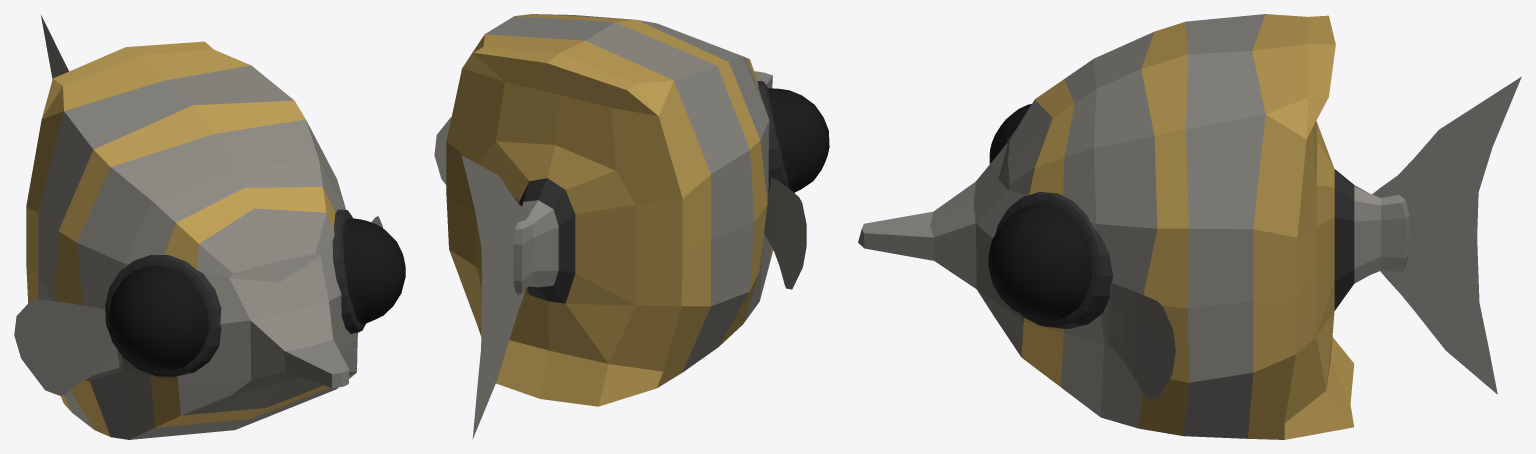
Rendered from q_butterfly.fbx.
The picture shows the model from 3 angles, left to right: view 1: azimuth 30°, elevation 25°; view 2: azimuth 150°, elevation 25°; view 3: azimuth 270°, elevation 25°; orthographic projection. The views are drawn at different scales.
Visible parts, largest first — view 1: q_butterfly; view 2: q_butterfly; view 3: q_butterfly.
Part boxes in pixels (bbox=[...]): q_butterfly: bbox=[14, 15, 405, 439]; q_butterfly: bbox=[434, 14, 829, 438]; q_butterfly: bbox=[858, 14, 1521, 439].
Bounding box in the file's own units: 0.7037 × 0.5989 × 1.
